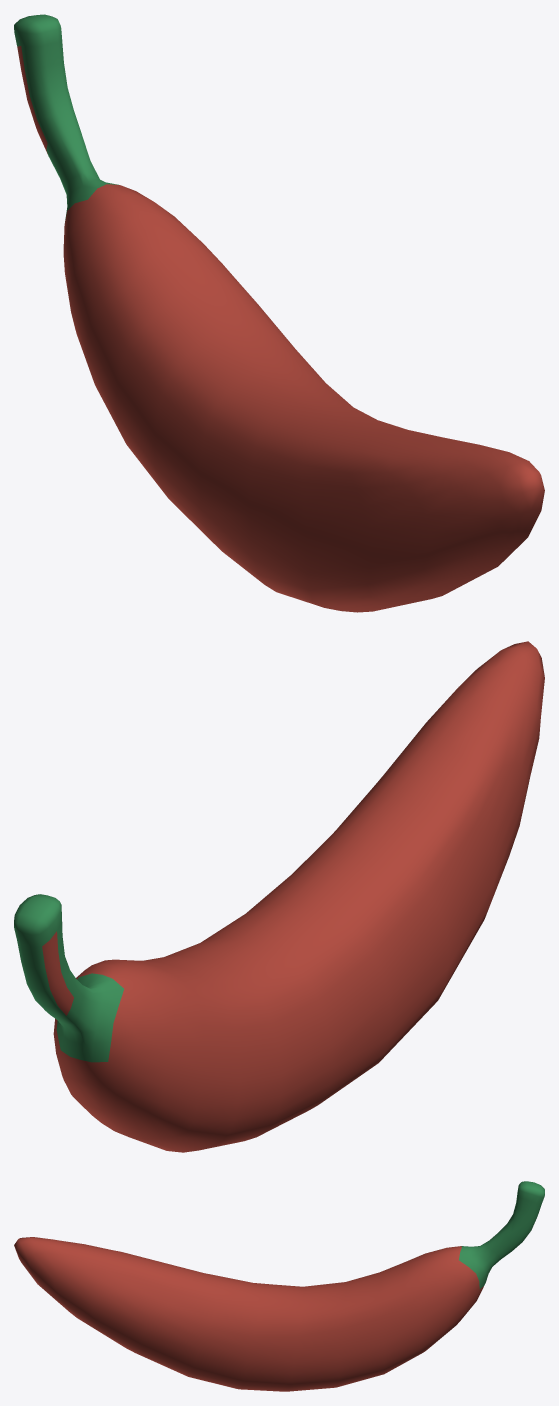
File: Chilli_01.dae
The picture shows the model from 3 angles, top to bottom: view 1: azimuth 30°, elevation 25°; view 2: azimuth 150°, elevation 25°; view 3: azimuth 270°, elevation 25°; orthographic projection. The views are drawn at different scales.
Visible parts, largest first — view 1: Chilli_01_LOD0; view 2: Chilli_01_LOD0; view 3: Chilli_01_LOD0.
Boxes of the visible parts, x1,y1,x2,y2 form: Chilli_01_LOD0: [14, 14, 544, 612]; Chilli_01_LOD0: [14, 641, 544, 1152]; Chilli_01_LOD0: [14, 1181, 544, 1391].
Size of what is drawn, in the model's own units: 0.9847 by 5.41 by 2.26.
